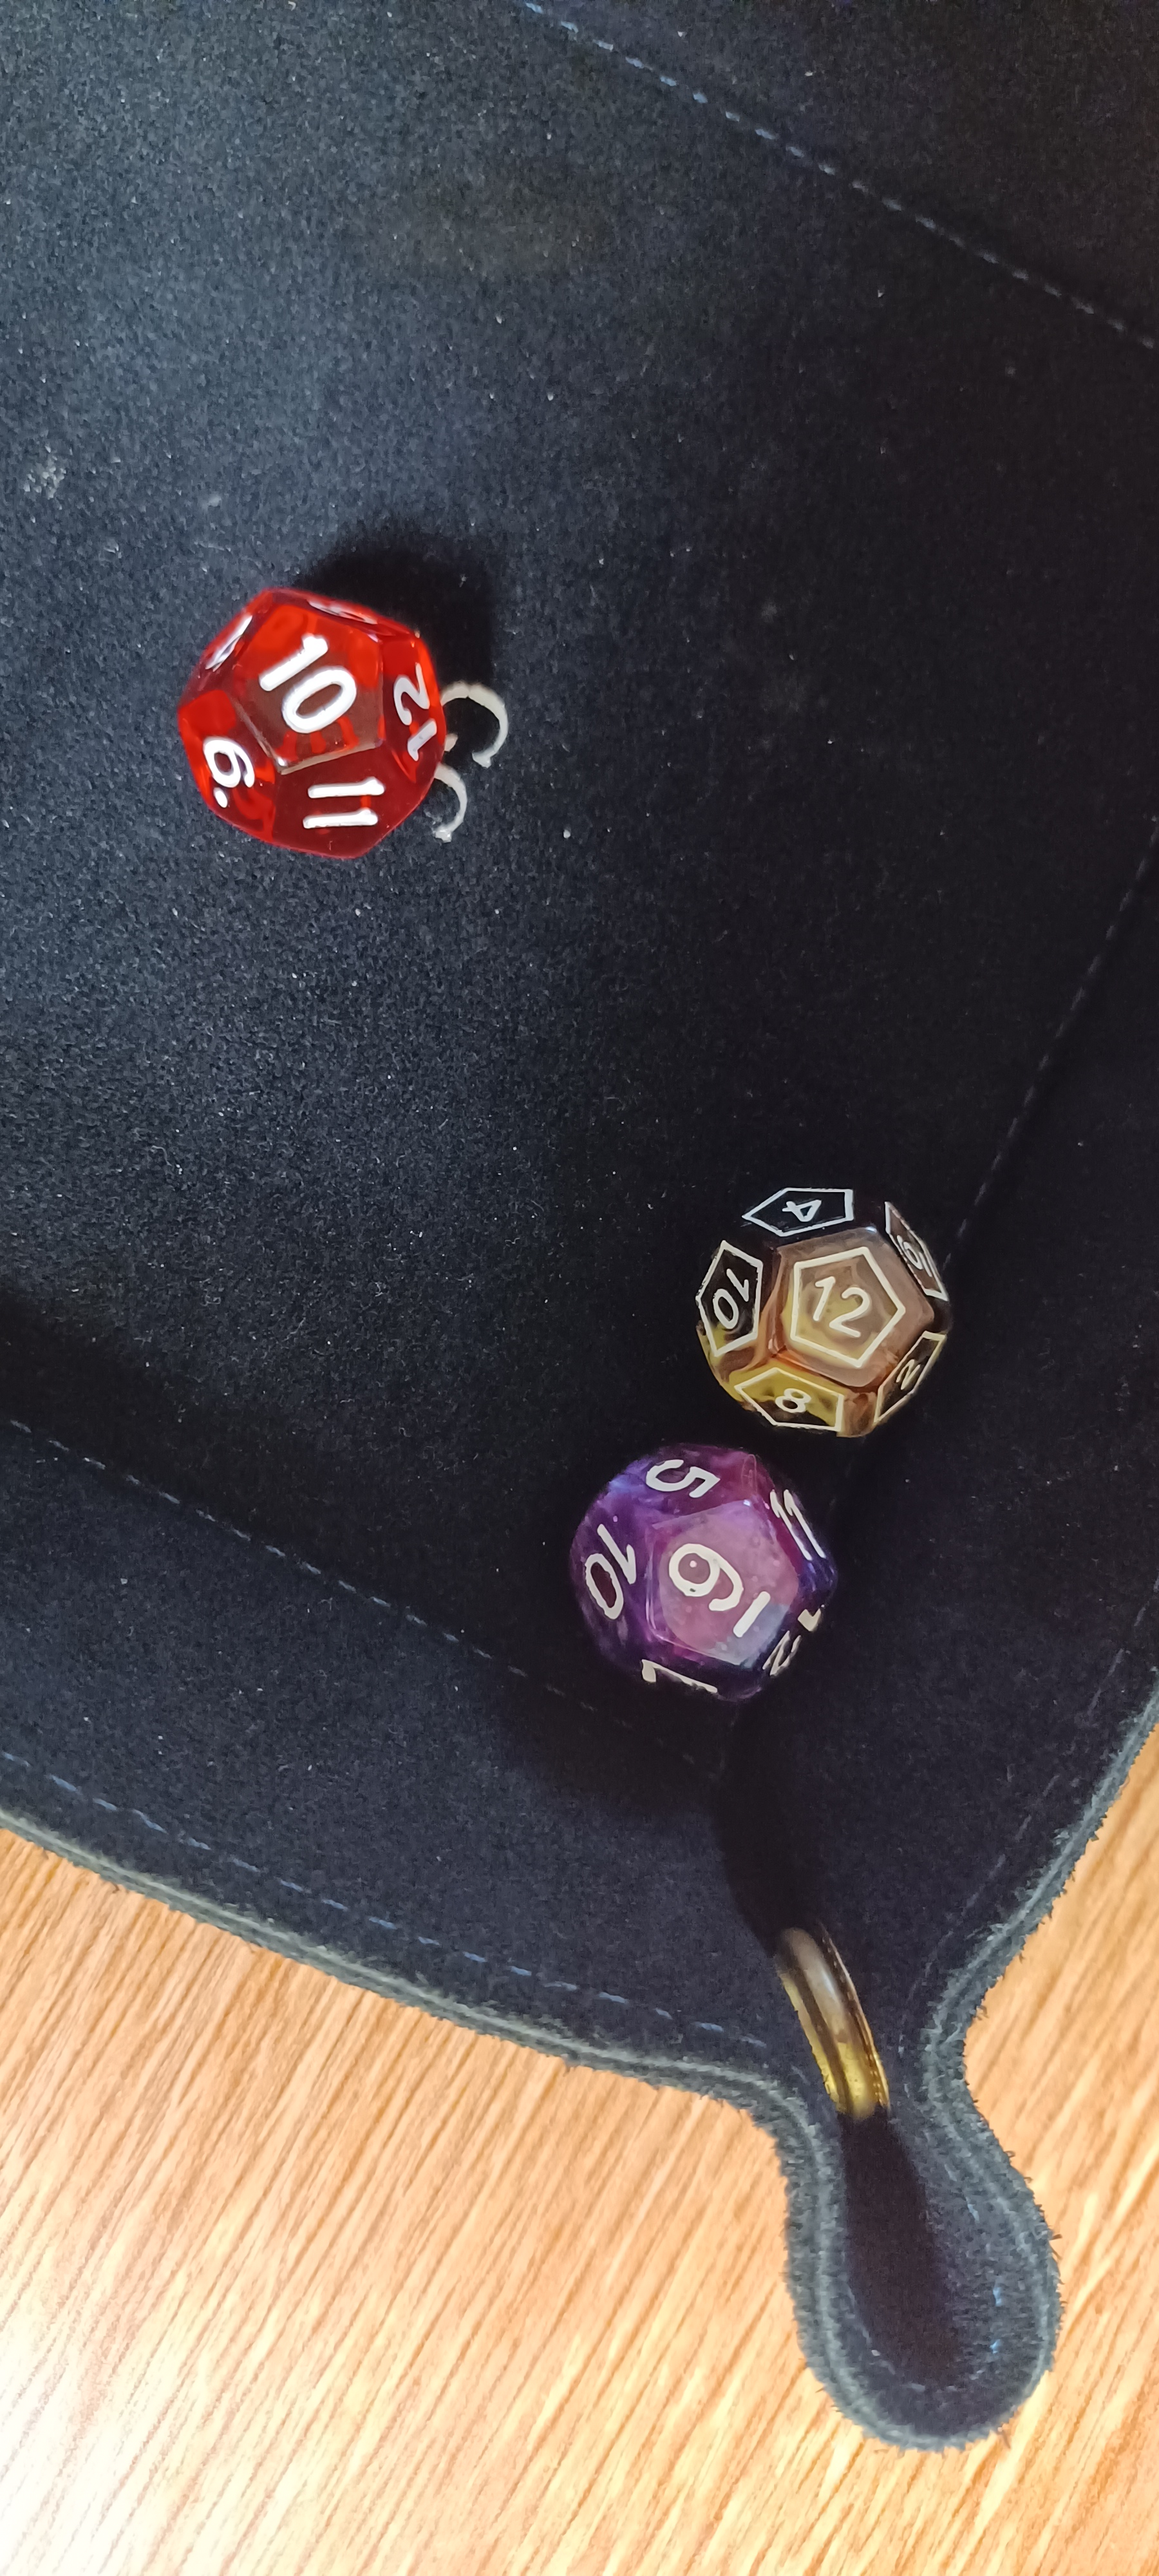nine: (542, 1401, 868, 1722)
ten: (146, 542, 517, 882)
twelve: (657, 1134, 1010, 1472)
